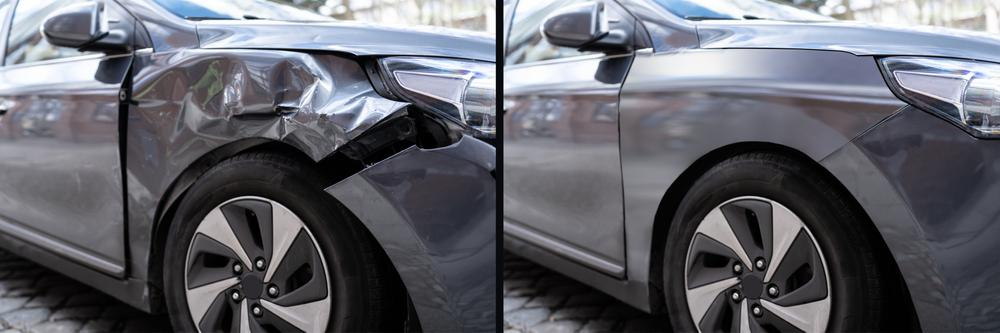dent: (126, 52, 387, 220)
